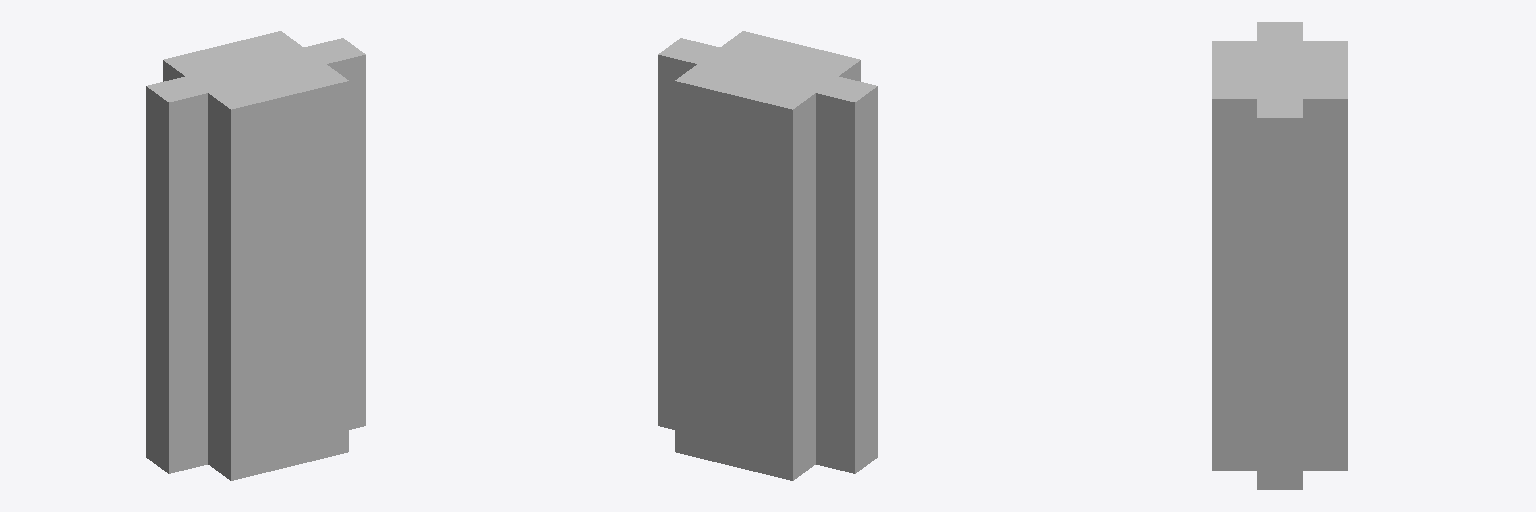
File: Mdl_TheFaceless_2.obj
3 renders of one model, left to right at view 1: azimuth 30°, elevation 25°; view 2: azimuth 150°, elevation 25°; view 3: azimuth 270°, elevation 25°, orthographic.
Visible parts, largest first — view 1: Mdl_TheFaceless_2; view 2: Mdl_TheFaceless_2; view 3: Mdl_TheFaceless_2.
Boxes of the visible parts, <box> form: Mdl_TheFaceless_2: <box>146,31,365,480</box>; Mdl_TheFaceless_2: <box>658,31,877,480</box>; Mdl_TheFaceless_2: <box>1212,22,1347,489</box>.
Size of the model in its own units: 5 by 9 by 3.